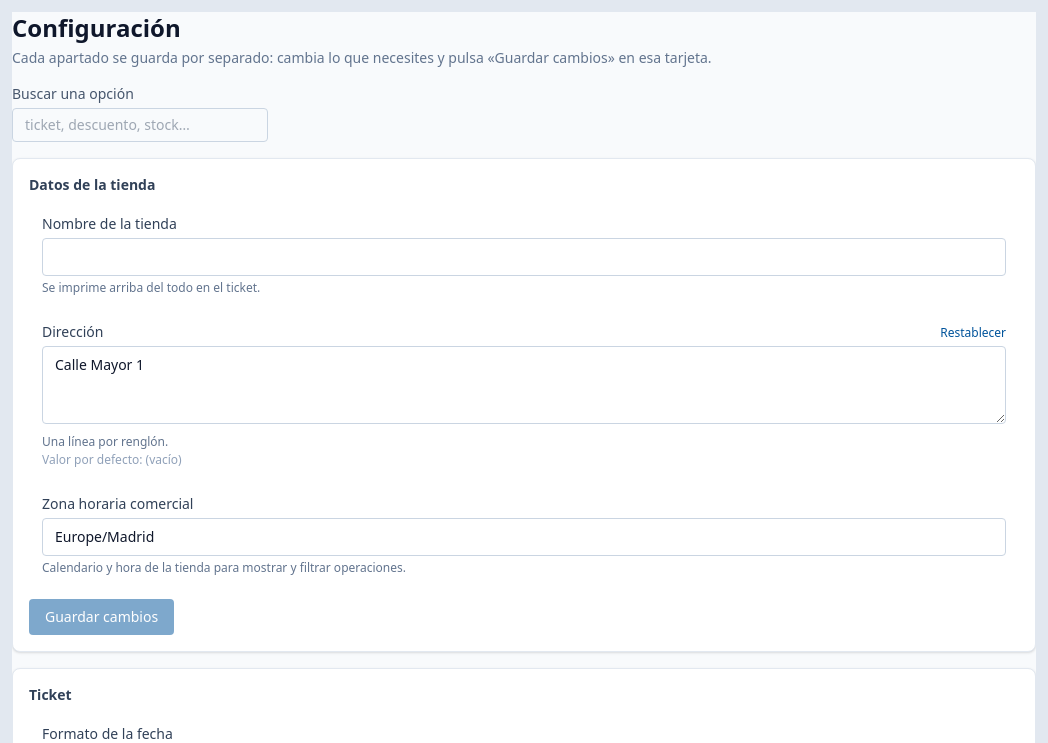
Test case: SettingsPage — opciones del registro › refreshes the read-only values cache when the business timezone changes
Clear the field labelled "Zona horaria comercial" at [524, 537], box [42, 518, 1006, 556]
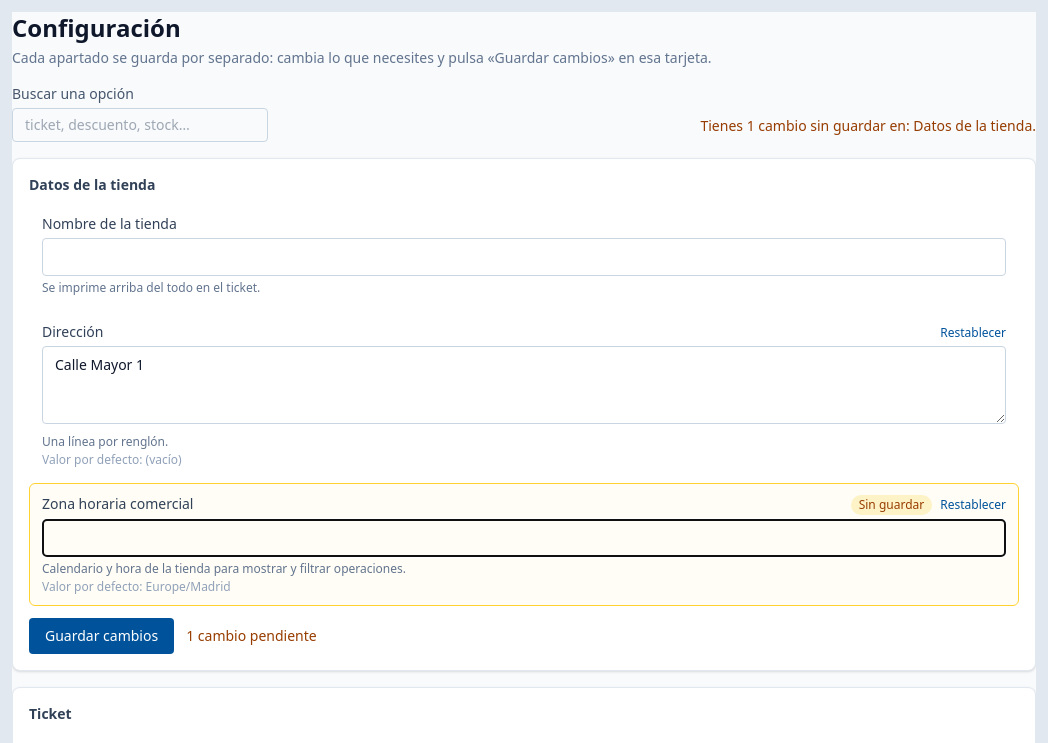
Type "Europe/Lisbon" into the field labelled "Zona horaria comercial".
click(524, 538); type("Europe/Lisbon")  # box [42, 519, 1006, 557]
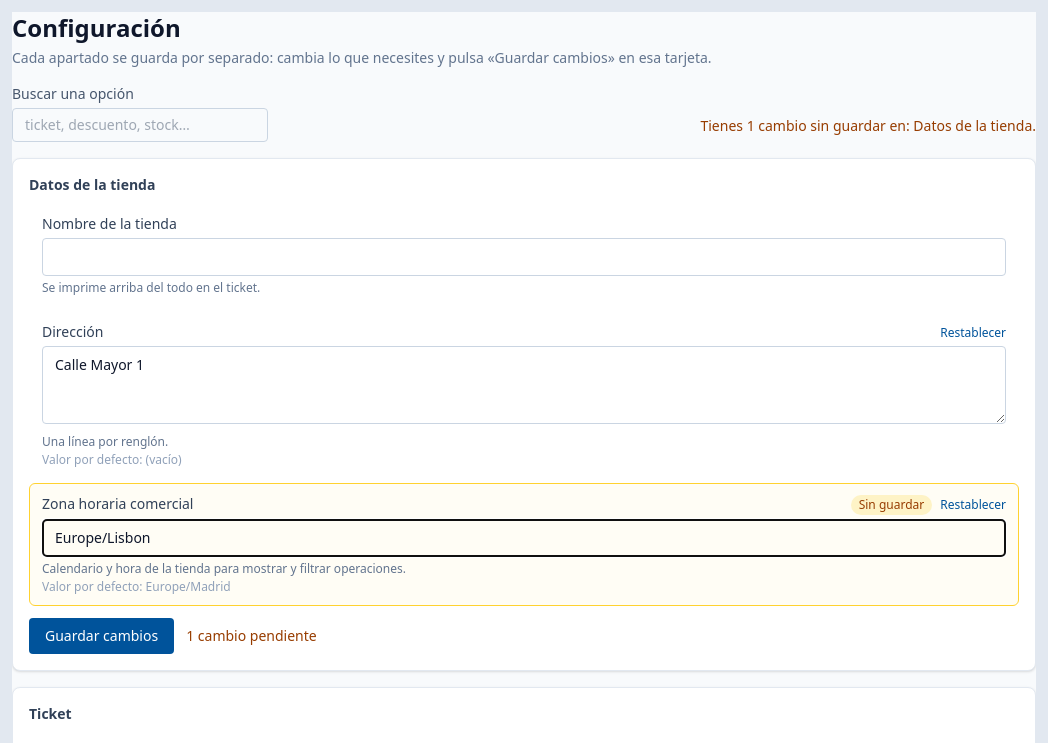
Click the button with aria-label "Guardar cambios de Datos de la tienda".
click(102, 636)  # box [29, 618, 174, 654]
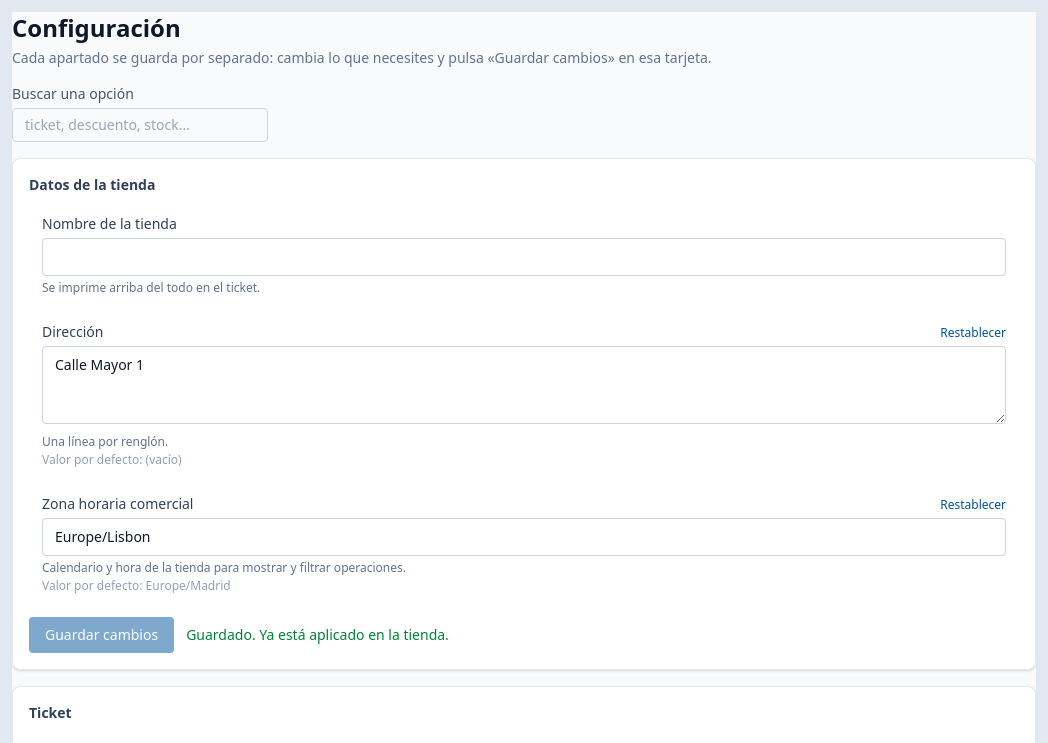
Expected: the text "Guardado. Ya está aplicado en la tienda." is shown, [186, 625, 449, 645]
